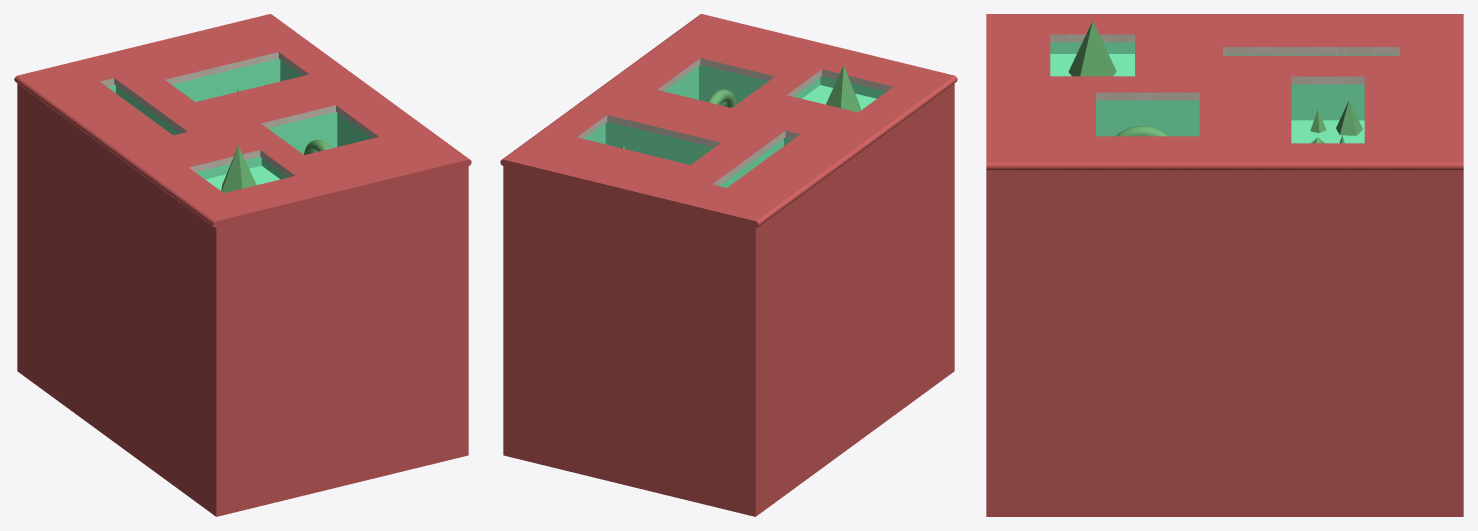
Rendered from Simple Table Example.fbx.
3 renders of one model, left to right at view 1: azimuth 30°, elevation 25°; view 2: azimuth 150°, elevation 25°; view 3: azimuth 270°, elevation 25°, orthographic. The views are drawn at different scales.
Visible parts, largest first — view 1: Shroud, Edited Table, Little Compartments, Wood Edges, Little Objects; view 2: Shroud, Edited Table, Little Compartments, Wood Edges, Little Objects; view 3: Shroud, Edited Table, Little Compartments, Wood Edges, Little Objects.
Part boxes in pixels (<box>): Shroud: <box>17,83,468,516</box>; Edited Table: <box>14,14,471,227</box>; Little Compartments: <box>107,58,371,190</box>; Wood Edges: <box>100,52,378,177</box>; Little Objects: <box>185,89,331,192</box>; Shroud: <box>503,83,954,516</box>; Edited Table: <box>500,14,957,227</box>; Little Compartments: <box>584,64,886,187</box>; Wood Edges: <box>577,58,892,185</box>; Little Objects: <box>621,65,860,148</box>; Shroud: <box>986,170,1463,516</box>; Edited Table: <box>986,14,1463,170</box>; Little Compartments: <box>1050,42,1399,143</box>; Wood Edges: <box>1050,34,1399,100</box>; Little Objects: <box>1068,21,1362,143</box>.
Bounding box in the file's own units: 1829 × 2438 × 2184.
4 materials, 1 textured.
